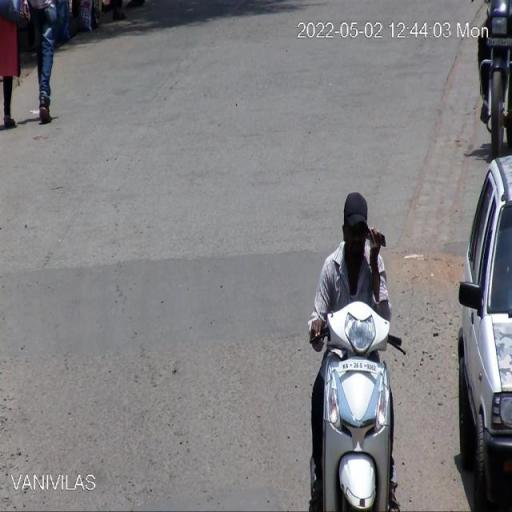numberplate: (338, 358, 378, 374)
using mobile: (366, 222, 387, 248)
